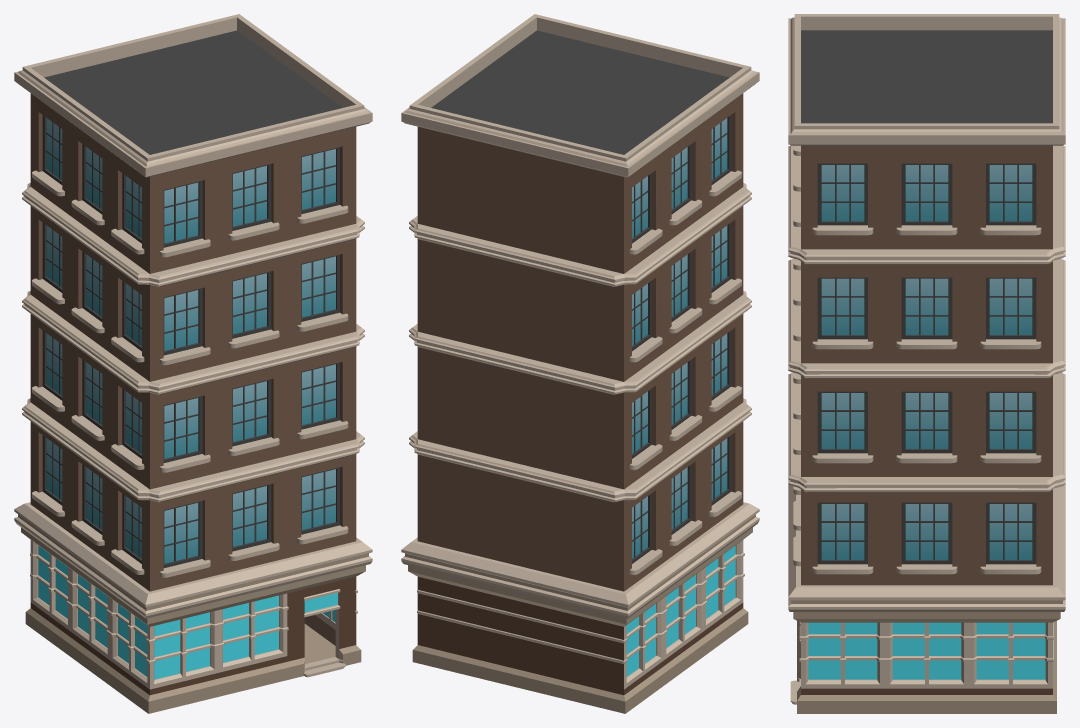
The model's file is SM_Buildings_House_06_V1.fbx.
3 views of the same model, side by side, from view 1: azimuth 30°, elevation 25°; view 2: azimuth 150°, elevation 25°; view 3: azimuth 270°, elevation 25° (orthographic). The views are drawn at different scales.
Visible parts, largest first — view 1: SM_Buildings_House_06_V1; view 2: SM_Buildings_House_06_V1; view 3: SM_Buildings_House_06_V1.
Boxes of the visible parts, left/top/right/bottom form: SM_Buildings_House_06_V1: left=14, top=14, right=372, bottom=713; SM_Buildings_House_06_V1: left=401, top=14, right=759, bottom=713; SM_Buildings_House_06_V1: left=788, top=14, right=1065, bottom=713.
Bounding box in the file's own units: 11 × 25.78 × 11.
